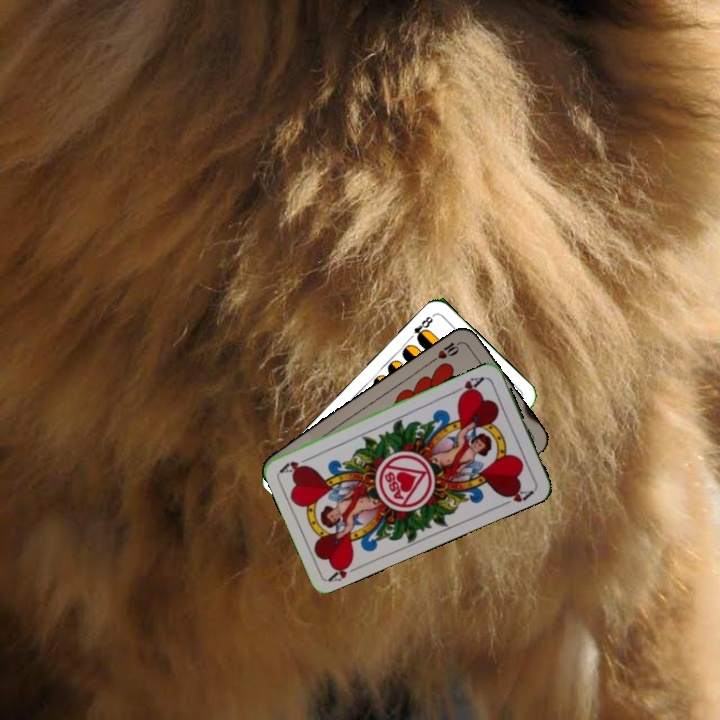E8: (405, 311, 437, 344)
H10: (429, 337, 465, 364)
HA: (325, 557, 364, 584), (450, 373, 487, 400)
